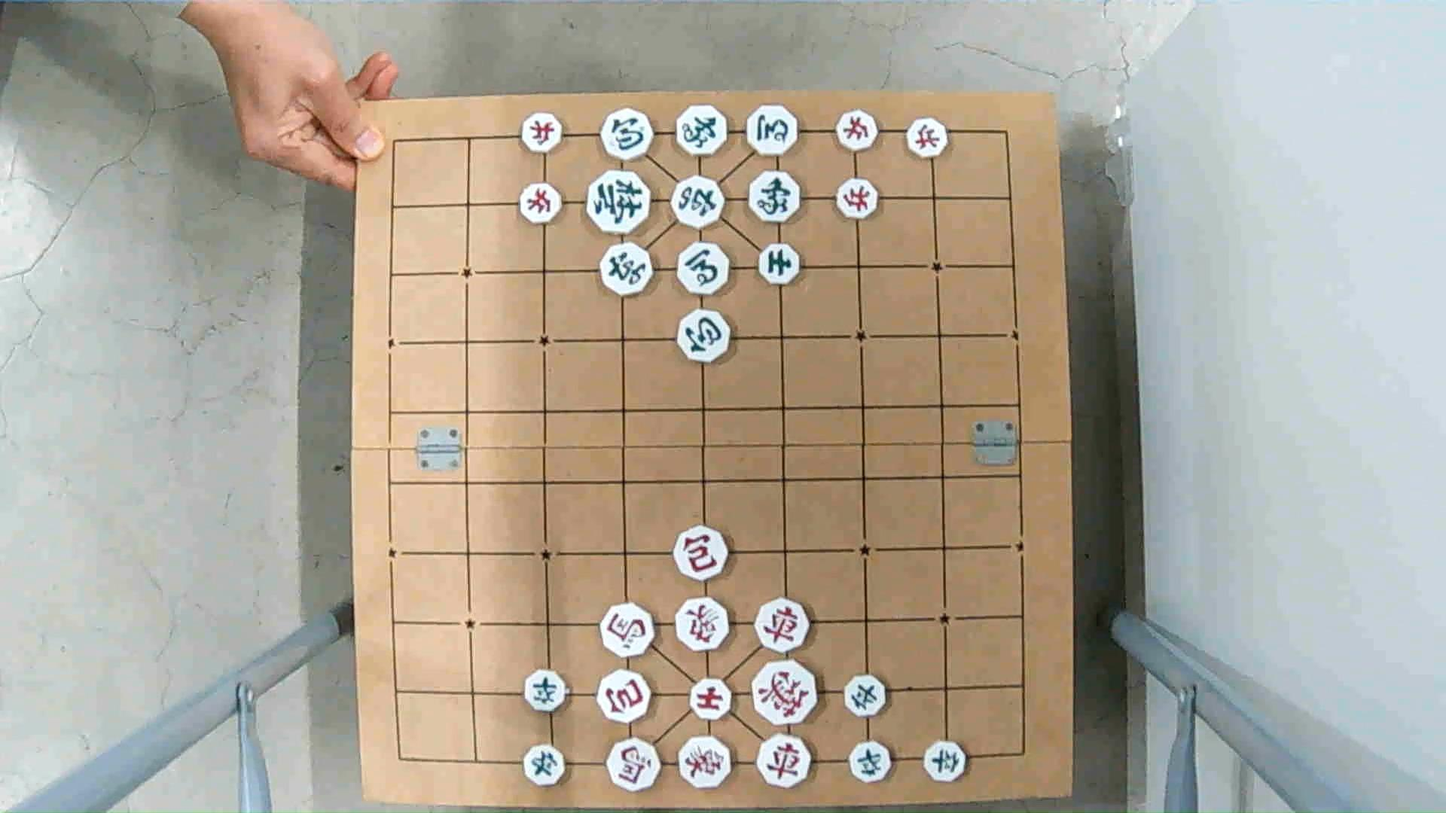cha_green: (669, 177, 726, 226), (598, 244, 652, 294)
cha_red: (753, 602, 810, 653), (760, 735, 811, 790)
jol_green: (923, 738, 966, 782), (844, 675, 889, 717), (524, 744, 568, 785), (523, 672, 569, 711), (848, 743, 892, 781)
jol_red: (904, 120, 949, 160), (834, 180, 880, 218), (519, 185, 562, 224), (523, 115, 565, 153), (836, 112, 878, 148)
ma_green: (677, 245, 733, 294), (746, 108, 801, 156)
ma_red: (598, 604, 655, 658), (608, 739, 664, 790)
po_green: (601, 107, 655, 160), (677, 309, 730, 362)
po_red: (673, 526, 731, 575), (596, 673, 651, 721)
sa_green: (758, 245, 803, 285)
sa_red: (688, 681, 734, 720)
sang_green: (751, 172, 803, 224), (679, 106, 731, 154)
sang_red: (679, 738, 736, 788), (677, 598, 731, 650)
wang_green: (587, 166, 652, 238)
wang_red: (752, 663, 822, 723)
